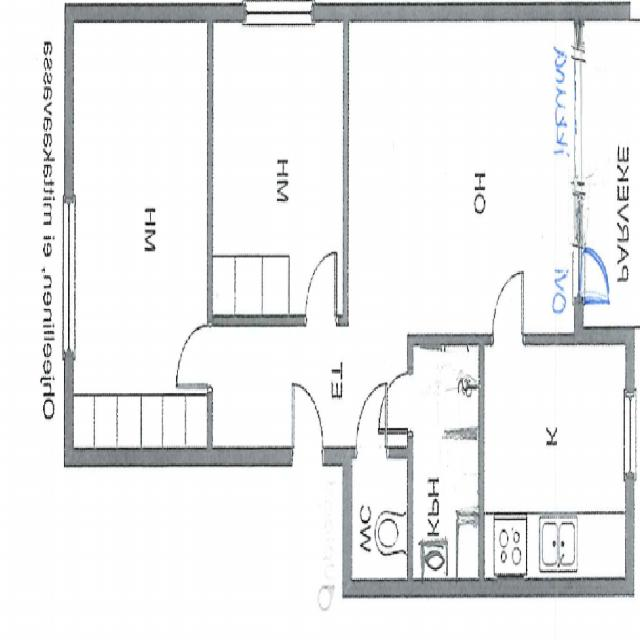door: (293, 386, 323, 465), (575, 242, 613, 304), (306, 251, 337, 326), (357, 384, 388, 459), (494, 269, 524, 343), (179, 327, 213, 388), (379, 373, 413, 432)
